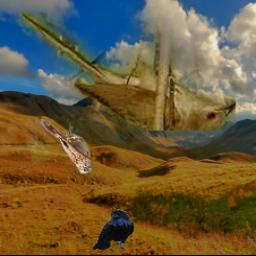Crow: (93, 210, 135, 251)
Cuckoo: (20, 14, 237, 132)
Sparrow: (42, 119, 93, 174)
